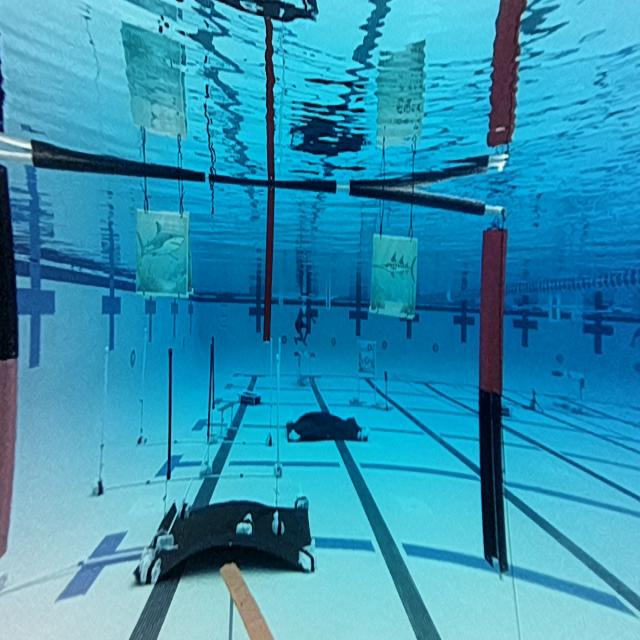pointed_nose: (372, 235, 422, 338)
round_nose: (134, 208, 189, 298)
